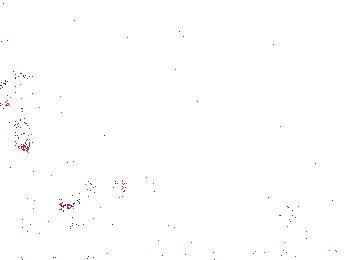flame jellyfish: (1, 67, 56, 152), (272, 173, 346, 229), (59, 164, 127, 214)
